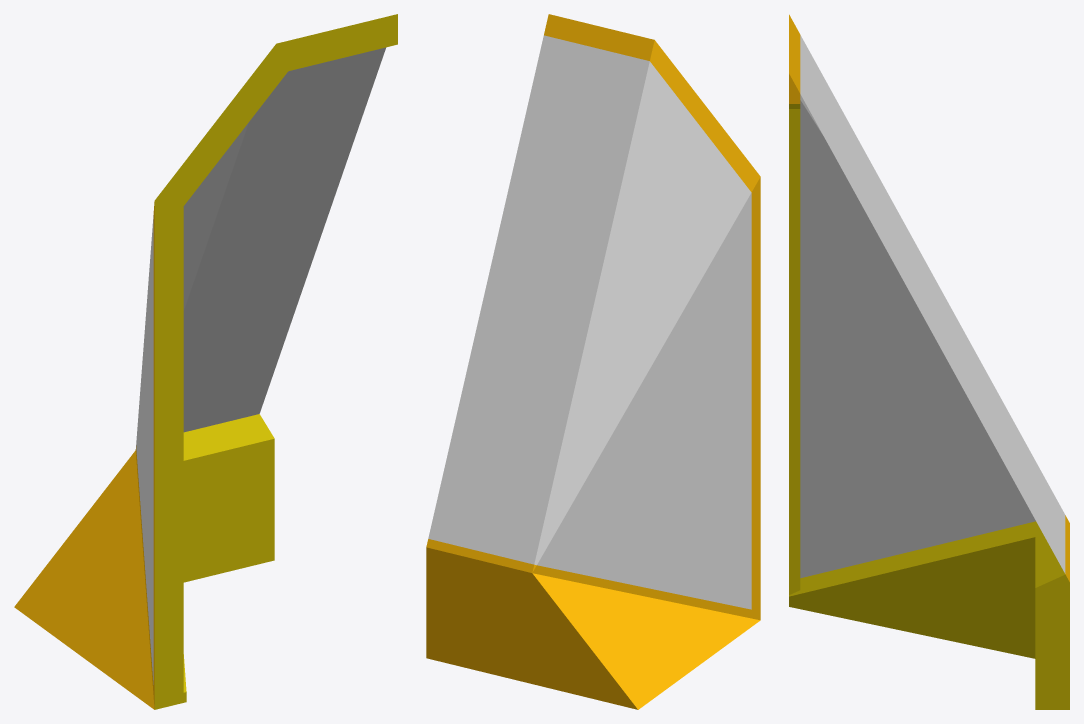
File: window_canopy_side_2x2x5.dae
3 views of the same model, side by side, from view 1: azimuth 30°, elevation 25°; view 2: azimuth 150°, elevation 25°; view 3: azimuth 270°, elevation 25° (orthographic). The views are drawn at different scales.
Parts seen in each view (by area): view 1: 立方体; view 2: 立方体; view 3: 立方体.
Boxes of the visible parts, box(x1,y1,x2,y2) form: 立方体: box(14, 14, 397, 709); 立方体: box(426, 14, 760, 709); 立方体: box(789, 14, 1069, 709).
Bounding box in the file's own units: 0.5 × 0.5 × 1.25.
